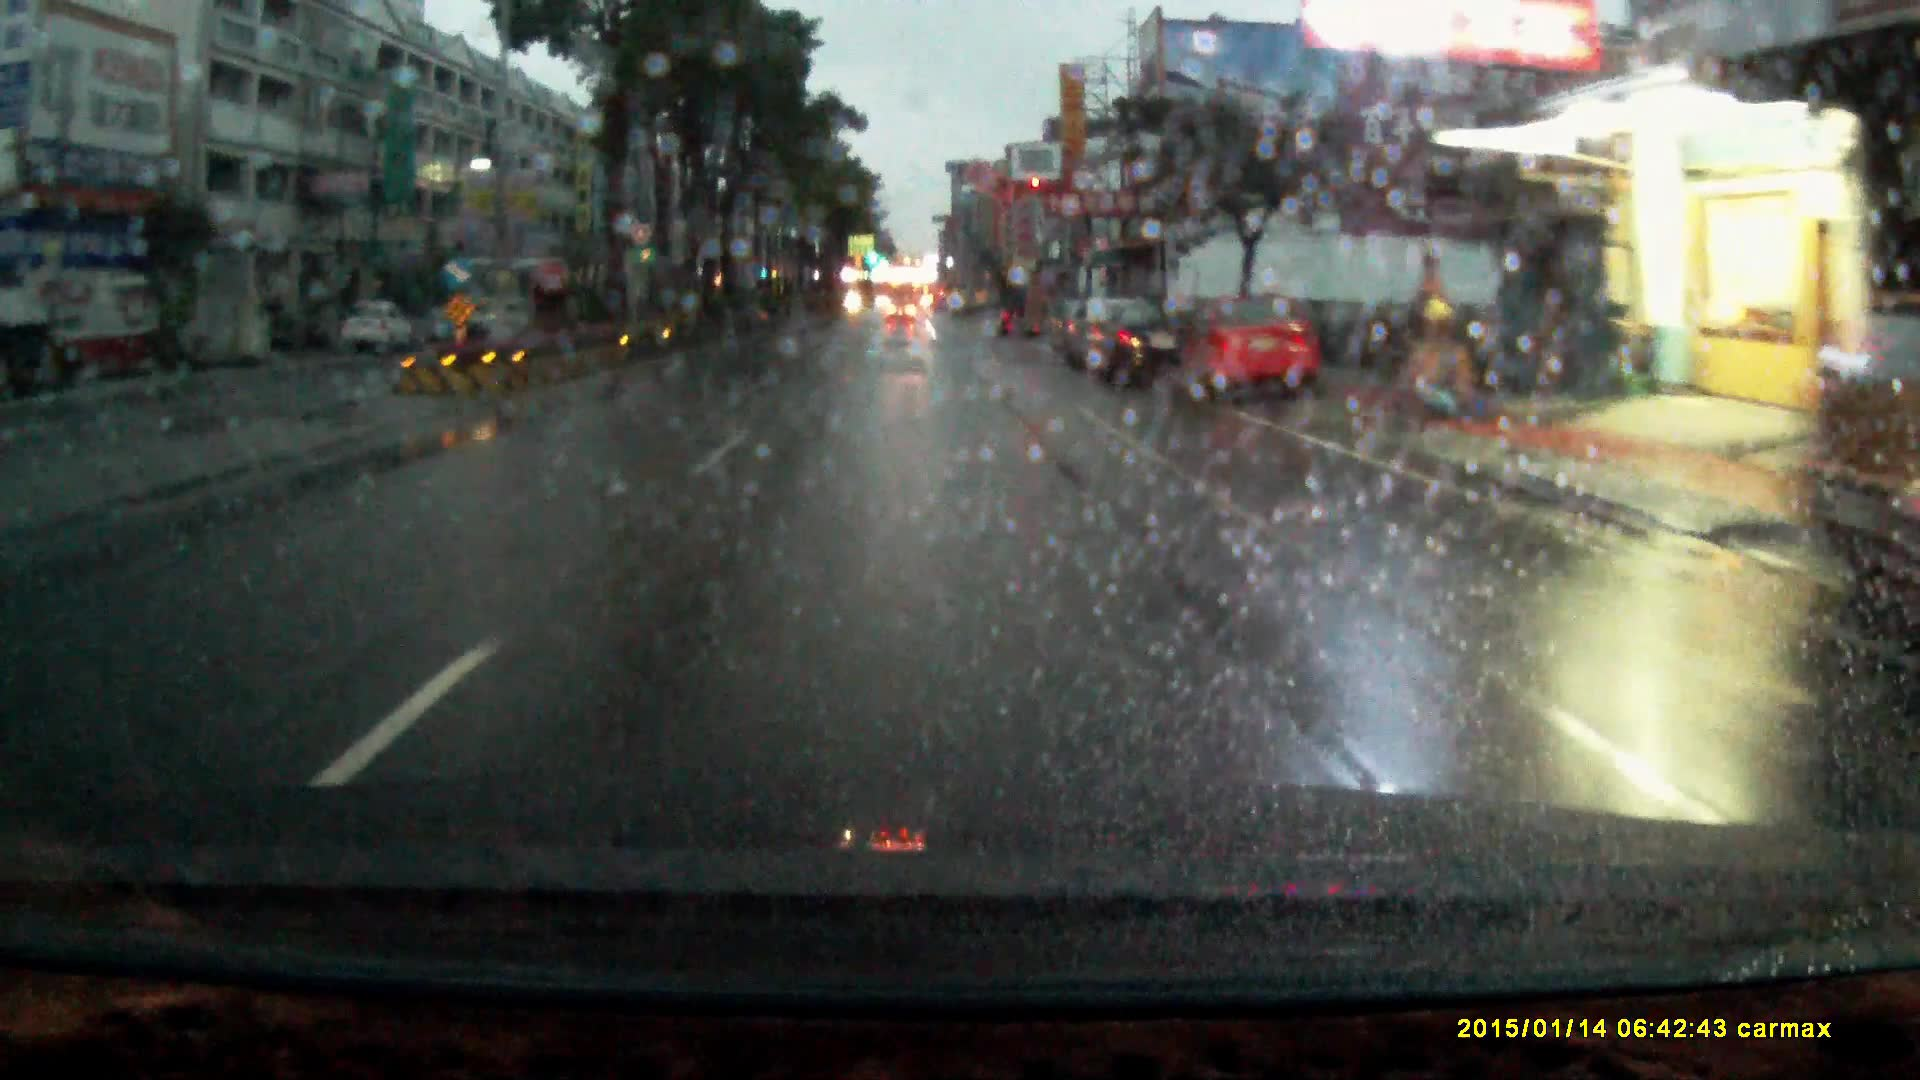vehicle: (1172, 301, 1320, 407), (1084, 301, 1191, 396), (1065, 298, 1143, 372), (338, 298, 415, 353), (446, 294, 541, 339), (1011, 291, 1051, 344), (885, 301, 918, 328)
